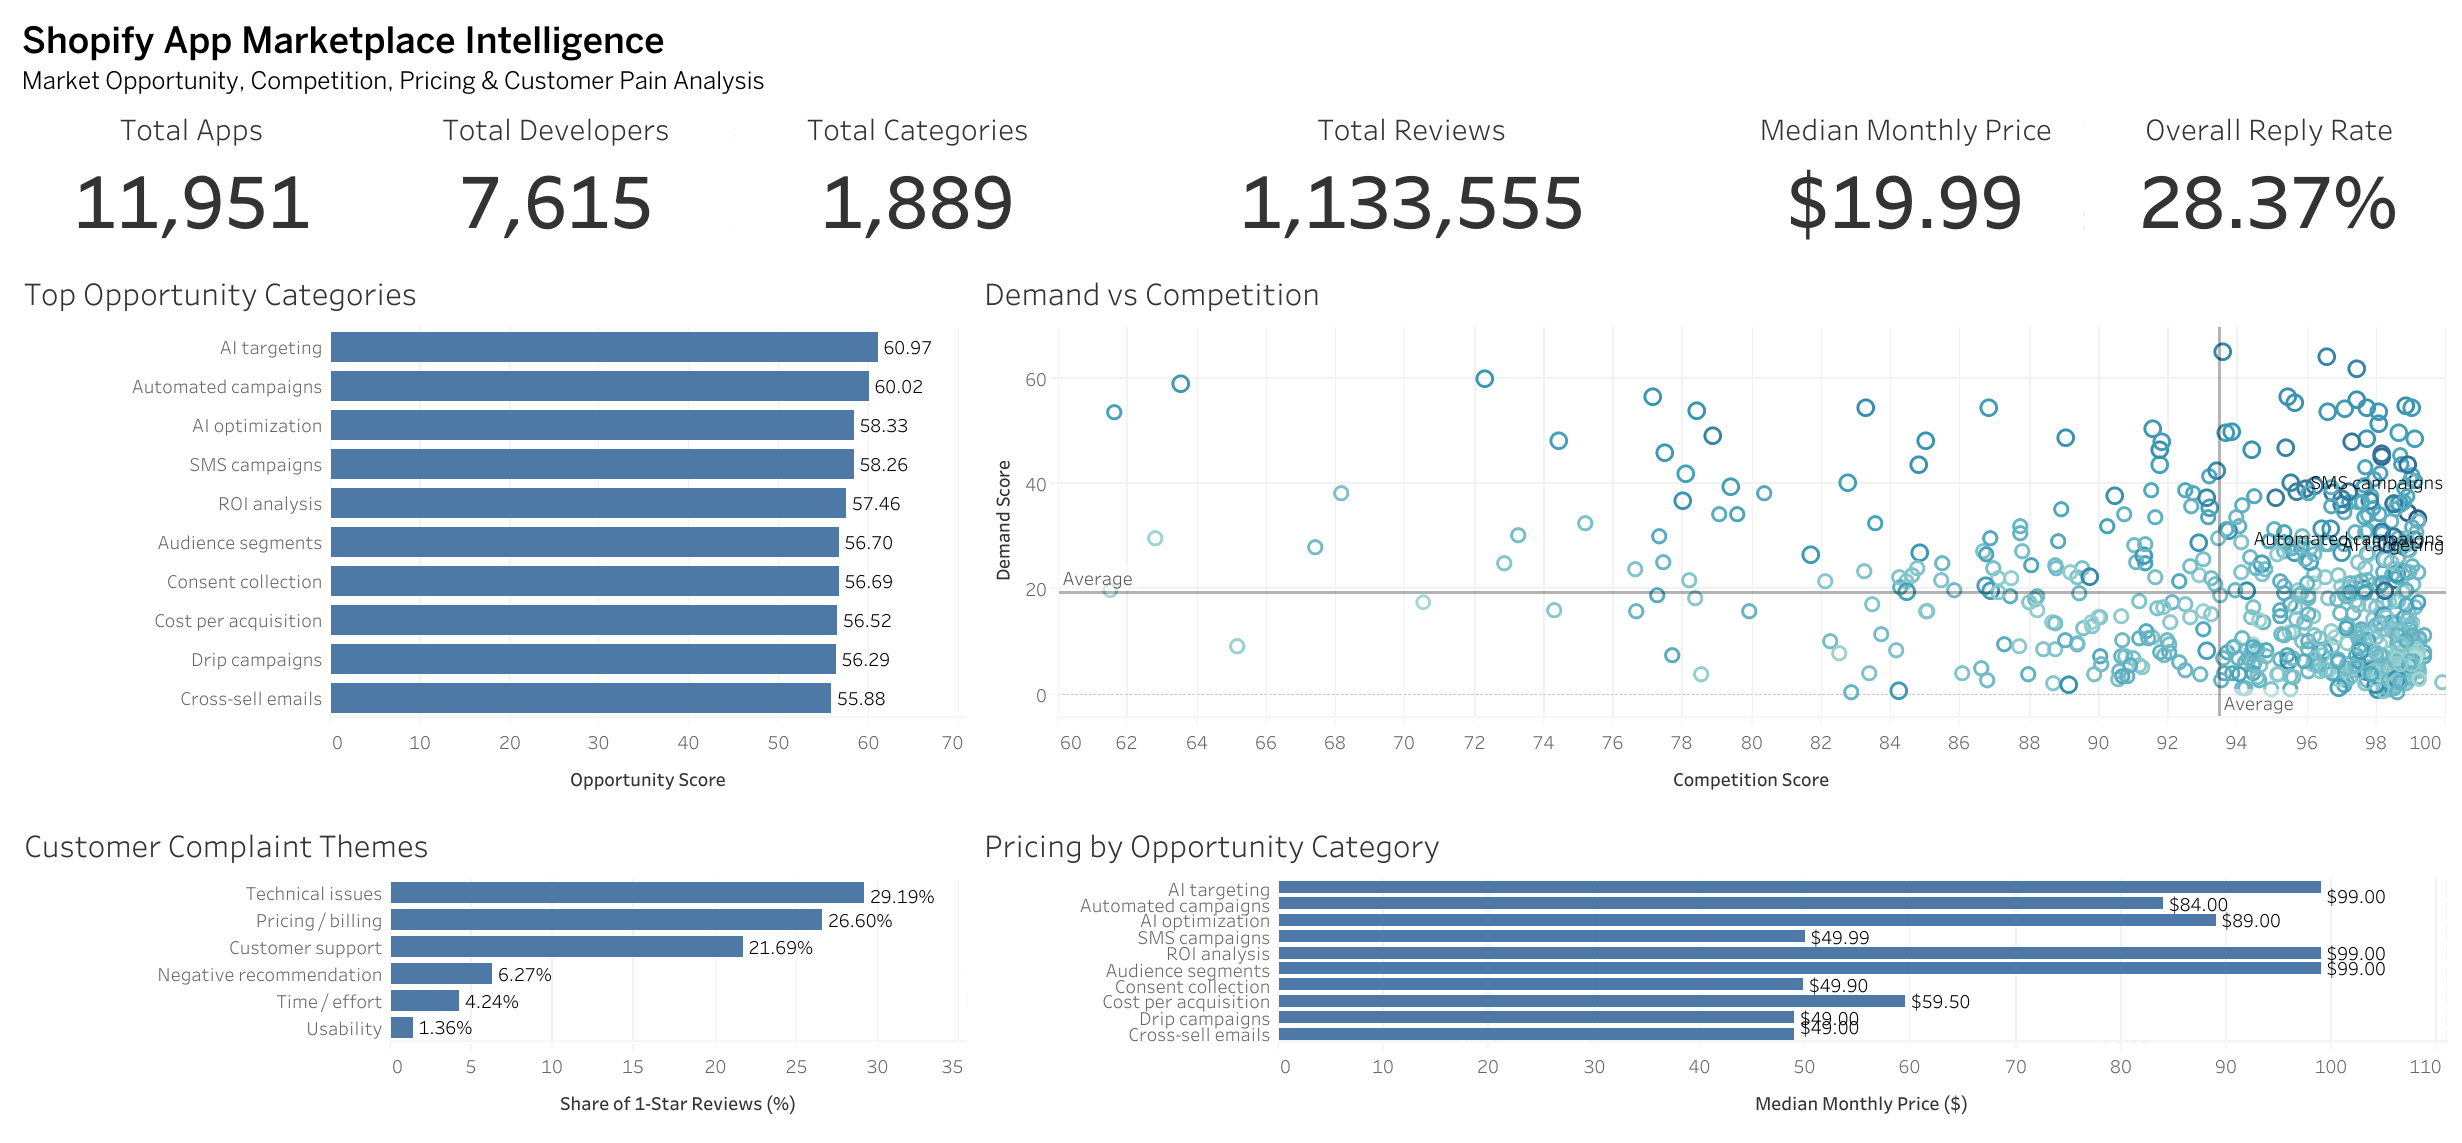

Layout of this report page (visuals, bound fields, positions):
{"tool":"tableau","page":{"name":"Dashboard 1","canvas":[1000,1000],"units":"permille","ordinal":0},"visuals":[{"type":"title","box":[3.2,6.3,993.7,65.5]},{"type":"worksheet","title":"KPI - Total Apps","mark":"Automatic","box":[3.2,71.8,165.7,138.9]},{"type":"worksheet","title":"KPI - Total Developers","mark":"Automatic","box":[168.8,71.8,165.7,138.9]},{"type":"worksheet","title":"KPI - Total Categories","mark":"Automatic","box":[334.5,71.8,165.7,138.9]},{"type":"worksheet","title":"KPI - Total Reviews","mark":"Automatic","box":[500.2,71.8,165.3,138.9]},{"type":"worksheet","title":"KPI - Median Monthly Price","mark":"Automatic","box":[665.5,71.8,165.7,138.9]},{"type":"worksheet","title":"KPI - Overall Reply Rate","mark":"Automatic","box":[831.1,71.8,165.7,138.9]},{"type":"worksheet","title":"Top Opportunity Categories","mark":"Automatic","rows":["category"],"cols":["opportunity_score"],"box":[3.2,210.7,391.1,492.5]},{"type":"worksheet","title":"Demand vs Competition","mark":"Automatic","rows":["demand_score"],"cols":["competition_score"],"box":[394.3,210.7,602.6,492.5]},{"type":"worksheet","title":"Customer Complaint Themes","mark":"Automatic","rows":["theme"],"cols":["percentage"],"box":[3.2,703.2,391.1,290.5]},{"type":"worksheet","title":"Pricing by Opportunity Category","mark":"Automatic","rows":["category"],"cols":["median_monthly_price"],"box":[394.3,703.2,602.6,290.5]}]}

Visuals, with their boxes on the dashboard's canvas, which has no fixed pixel size, in thousandths of its width and height (x1, y1, x2, y2). These are canvas units, not pixel positions in the 2462x1143 screenshot, which may show the page scaled, cropped or inside an application window:
title: bbox=[3, 6, 997, 72]
"KPI - Total Apps" worksheet: bbox=[3, 72, 169, 211]
"KPI - Total Developers" worksheet: bbox=[169, 72, 334, 211]
"KPI - Total Categories" worksheet: bbox=[334, 72, 500, 211]
"KPI - Total Reviews" worksheet: bbox=[500, 72, 666, 211]
"KPI - Median Monthly Price" worksheet: bbox=[666, 72, 831, 211]
"KPI - Overall Reply Rate" worksheet: bbox=[831, 72, 997, 211]
"Top Opportunity Categories" worksheet: bbox=[3, 211, 394, 703]
"Demand vs Competition" worksheet: bbox=[394, 211, 997, 703]
"Customer Complaint Themes" worksheet: bbox=[3, 703, 394, 994]
"Pricing by Opportunity Category" worksheet: bbox=[394, 703, 997, 994]
